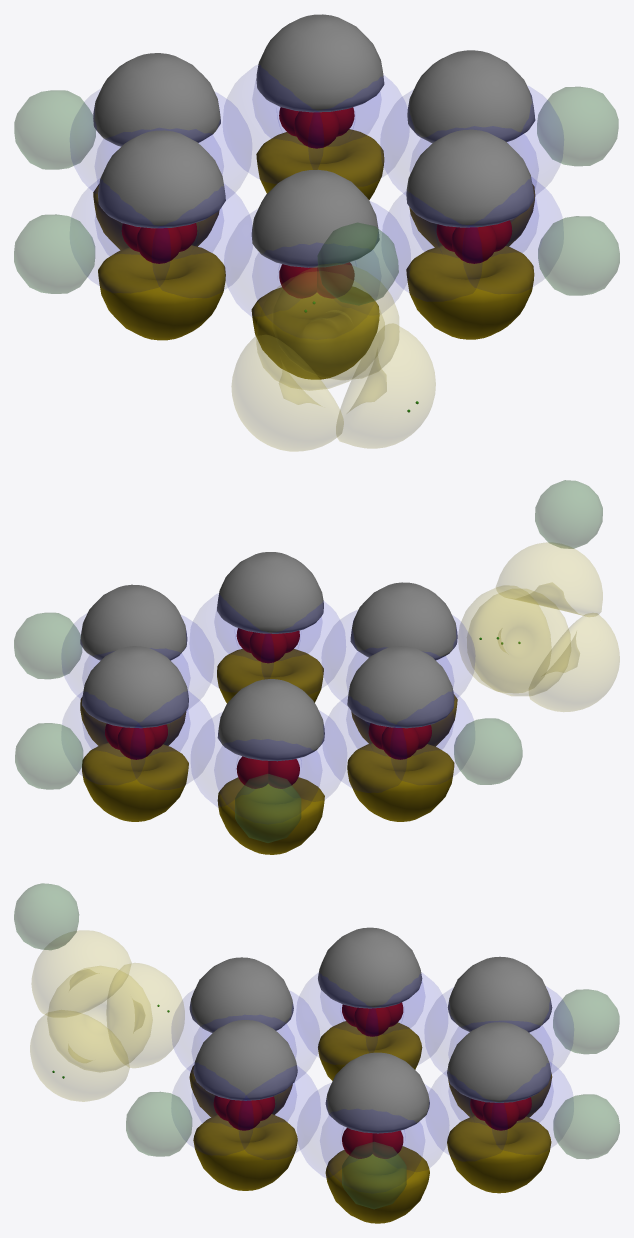
Rendered from Phenol_Orbital_Stucture.gltf.
3 views of the same model, one above another, from view 1: azimuth 30°, elevation 25°; view 2: azimuth 150°, elevation 25°; view 3: azimuth 270°, elevation 25° (orthographic). The views are drawn at different scales.
Parts seen in each view (by area): view 1: P_Orbital_04, Sp_Orbital_051, Sp_Orbital_052, Sp_Orbital_048, Sp_Orbital_050, P_Orbital_02, Sp_Orbital_054, P_Orbital_01, Sp_Orbital_047, Sp_Orbital_053, Sp_Orbital_056, Sp_Orbital_049 (+14 smaller); view 2: P_Orbital_04, P_Orbital_03, Sp_Orbital_049, Sp_Orbital_051, Sp_Orbital_048, Sp_Orbital_052, Sp_Orbital_054, Sp_Orbital_055, Sp_Orbital_057, Sp_Orbital_050, P_Orbital_01, Sp_Orbital_056 (+14 smaller); view 3: P_Orbital_01, P_Orbital_03, Sp_Orbital_056, Sp_Orbital_051, Sp_Orbital_048, Sp_Orbital_052, P_Orbital_04, P_Orbital_02, Sp_Orbital_055, Sp_Orbital_049, Sp_Orbital_047, Sp_Orbital_046 (+14 smaller).
Boxes of the visible parts, x1,y1,x2,y2 form: P_Orbital_04: (256, 272, 384, 390); Sp_Orbital_051: (98, 130, 225, 228); Sp_Orbital_052: (406, 129, 534, 227); Sp_Orbital_048: (256, 14, 384, 112); Sp_Orbital_050: (251, 169, 379, 267); P_Orbital_02: (272, 266, 399, 379); Sp_Orbital_054: (98, 245, 225, 340); P_Orbital_01: (231, 335, 343, 451); Sp_Orbital_047: (406, 245, 534, 339); Sp_Orbital_053: (251, 286, 379, 379); Sp_Orbital_056: (407, 50, 535, 142); Sp_Orbital_049: (93, 53, 220, 146); P_Orbital_04: (458, 586, 551, 692); P_Orbital_03: (467, 589, 570, 695); Sp_Orbital_049: (217, 679, 324, 761); Sp_Orbital_051: (347, 646, 454, 728); Sp_Orbital_048: (82, 646, 188, 728); Sp_Orbital_052: (217, 552, 323, 633); Sp_Orbital_054: (347, 743, 454, 821); Sp_Orbital_055: (82, 742, 188, 821); Sp_Orbital_057: (217, 777, 324, 854); Sp_Orbital_050: (350, 582, 457, 660); P_Orbital_01: (529, 613, 619, 711); Sp_Orbital_056: (80, 584, 187, 660); P_Orbital_01: (47, 966, 152, 1071); P_Orbital_03: (30, 1010, 129, 1101); Sp_Orbital_056: (325, 1052, 429, 1133); Sp_Orbital_051: (318, 927, 422, 1008); Sp_Orbital_048: (447, 1022, 551, 1102); Sp_Orbital_052: (193, 1020, 297, 1100); P_Orbital_04: (106, 963, 184, 1067); P_Orbital_02: (31, 930, 131, 1016); Sp_Orbital_055: (447, 1115, 551, 1193); Sp_Orbital_049: (447, 956, 552, 1032); Sp_Orbital_047: (193, 1114, 297, 1190); Sp_Orbital_046: (325, 1146, 429, 1223).
Size of the model in its own units: 1.12 by 0.4558 by 1.21.
Materials: 7 (4 with a texture image).
